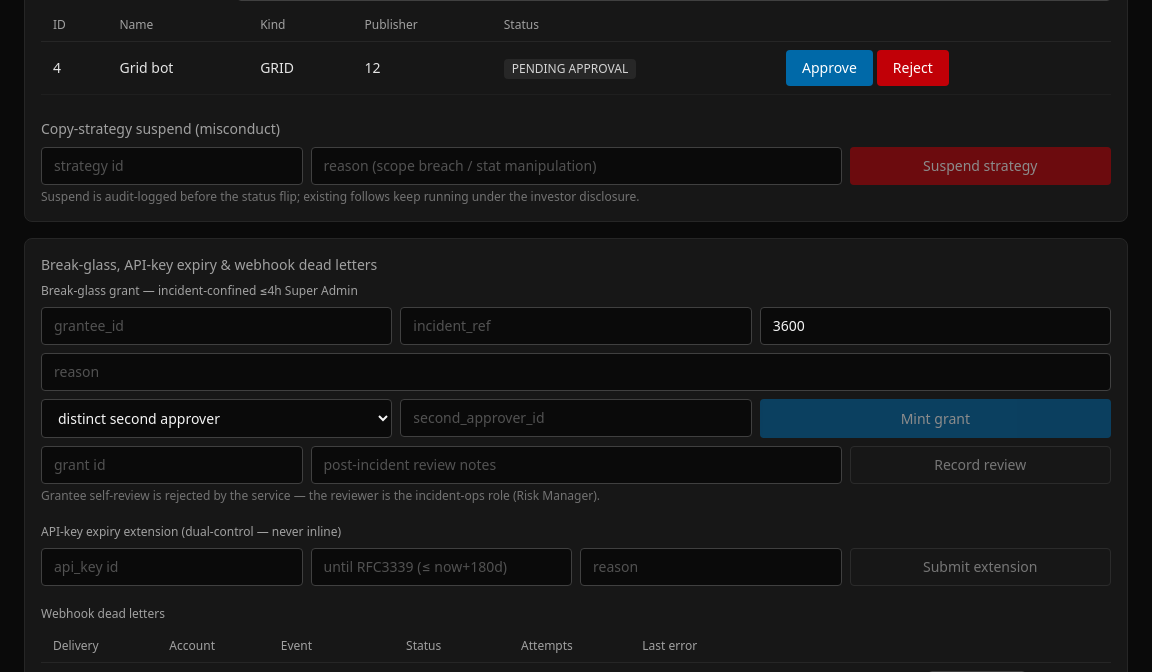
Test: ContentPage › mints a break-glass grant with a distinct approver
(page scrolled)
Step 1. Type "55" into the field labelled "grantee_id" → [217, 326], box [41, 307, 392, 345]
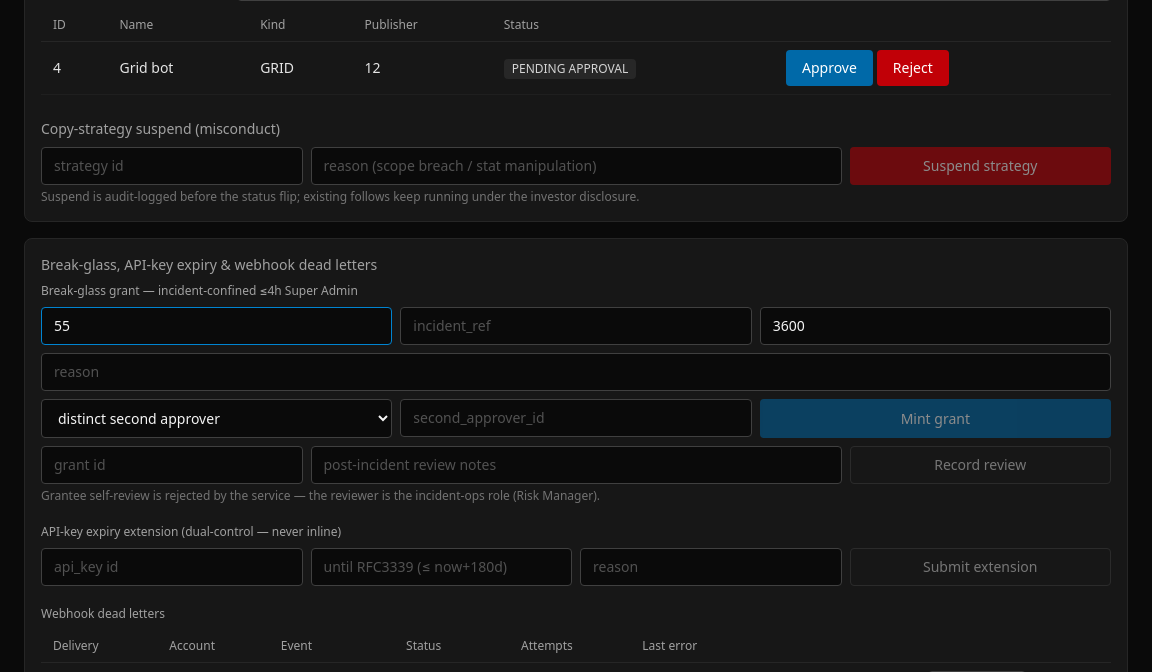
Step 2. Type "INC-99" into the field labelled "incident_ref" → [576, 326], box [400, 307, 752, 345]
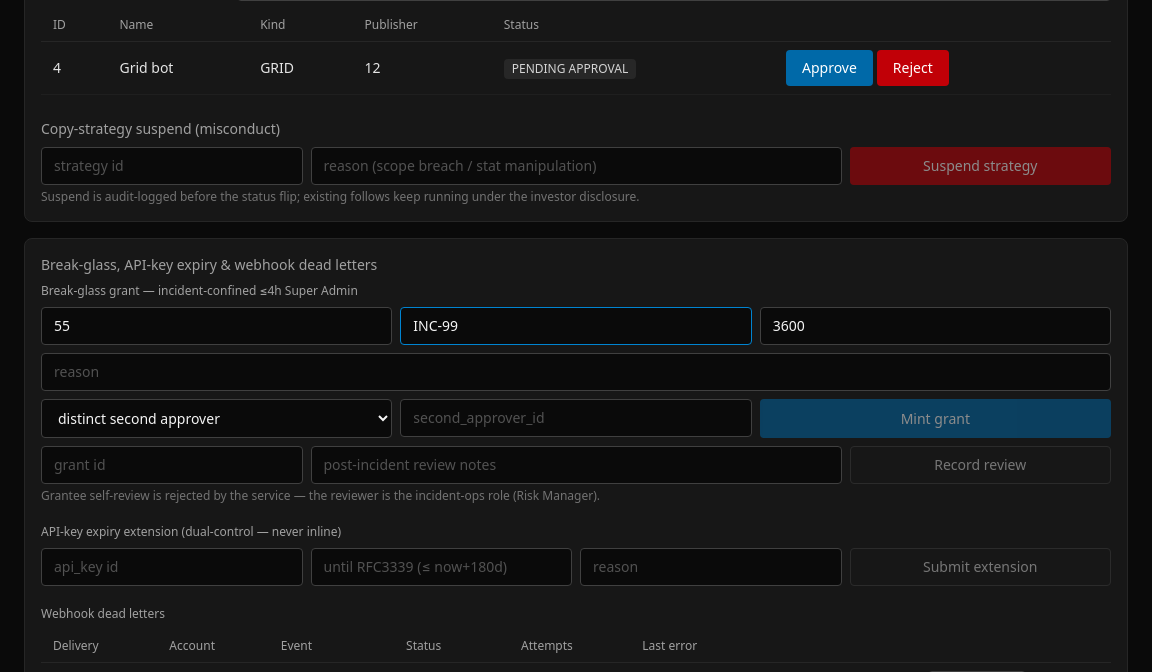
Step 3. Type "prod outage" into the field named "Break-glass reason" → [576, 372], box [41, 353, 1111, 391]
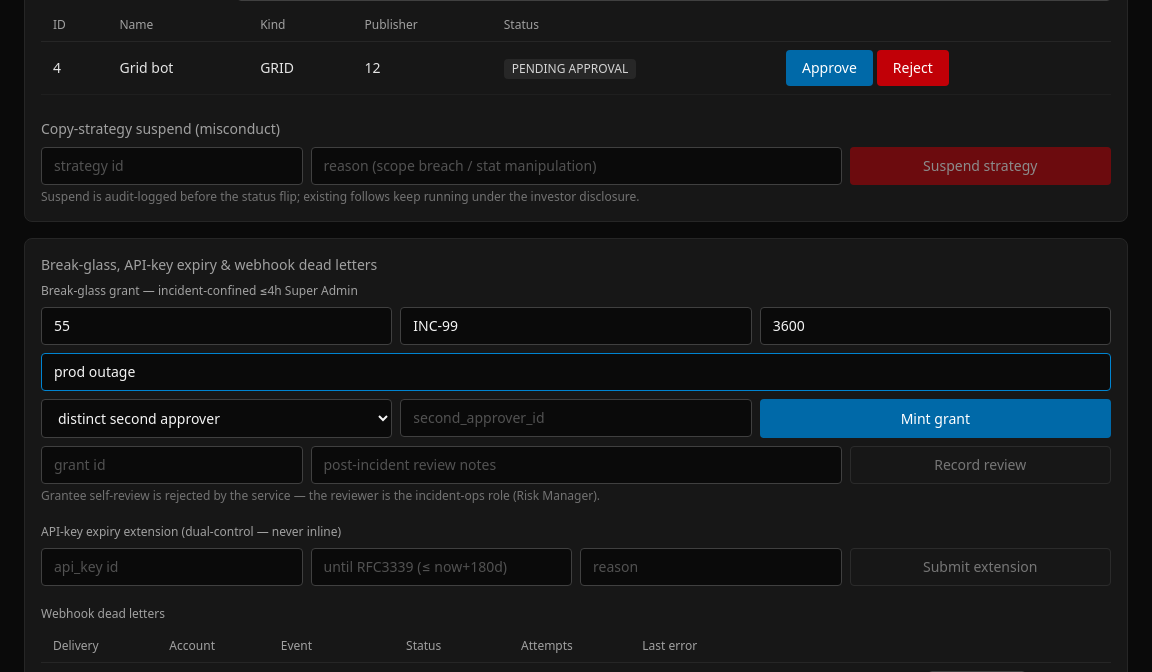
Step 4. Type "66" into the field named "Second approver id" → [576, 418], box [400, 399, 752, 437]
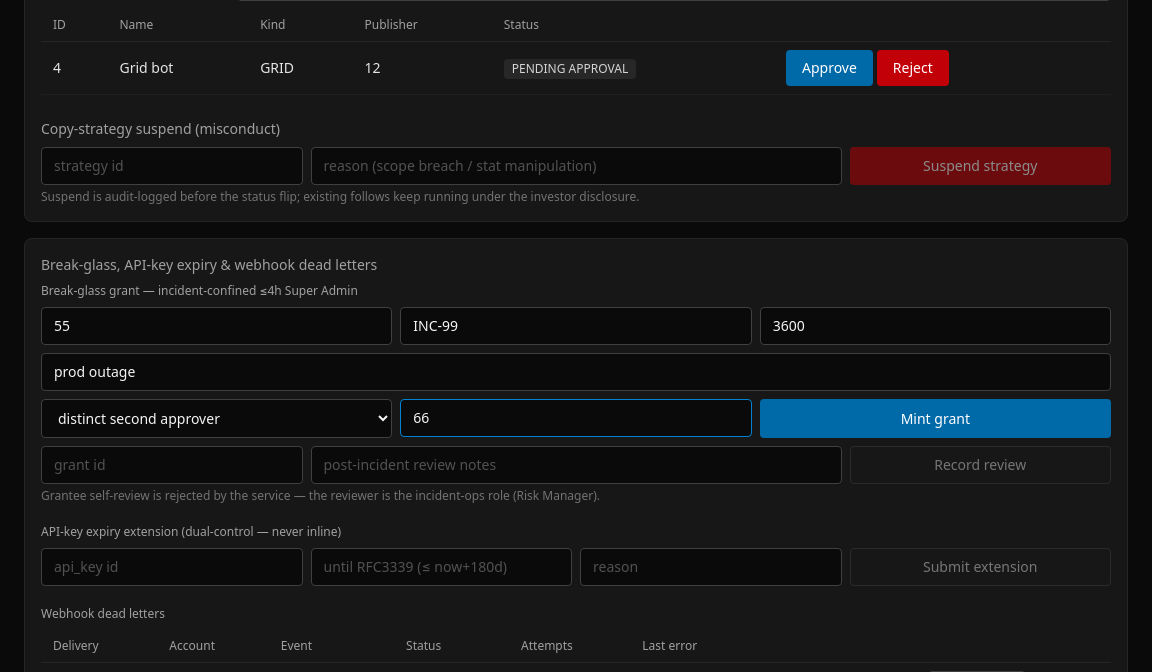
Step 5. Click the button "Mint grant" → [935, 418], box [760, 399, 1111, 438]
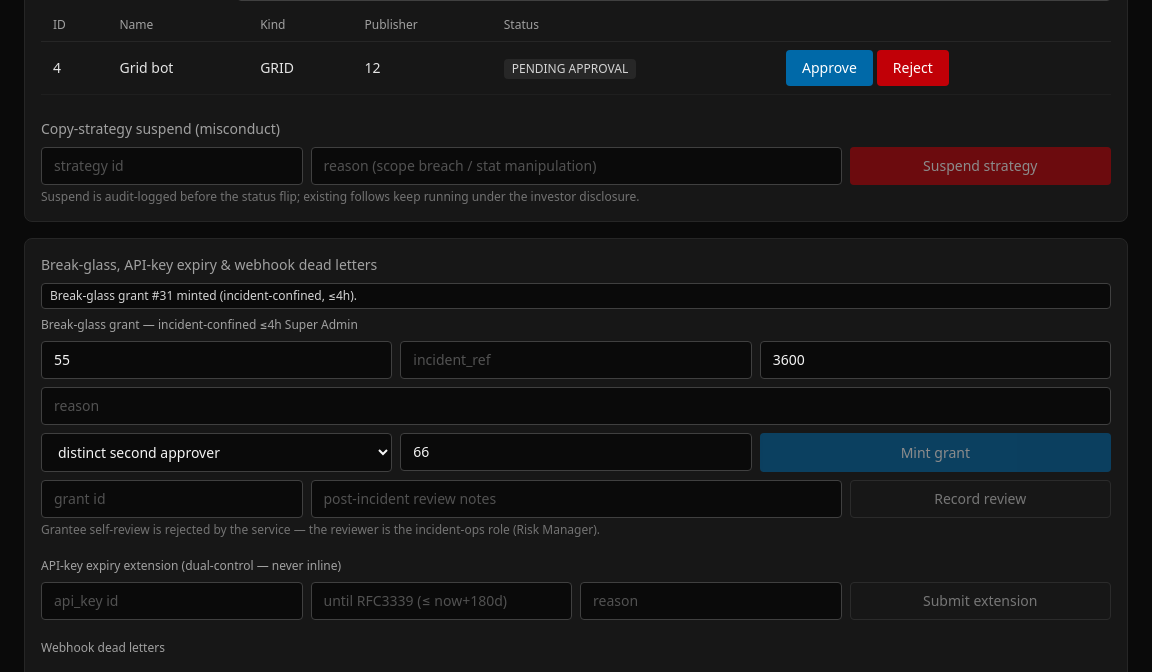
Now the text "Break-glass grant #31 minted (incident-confined, ≤4h)." is shown, box [41, 283, 1111, 309]
